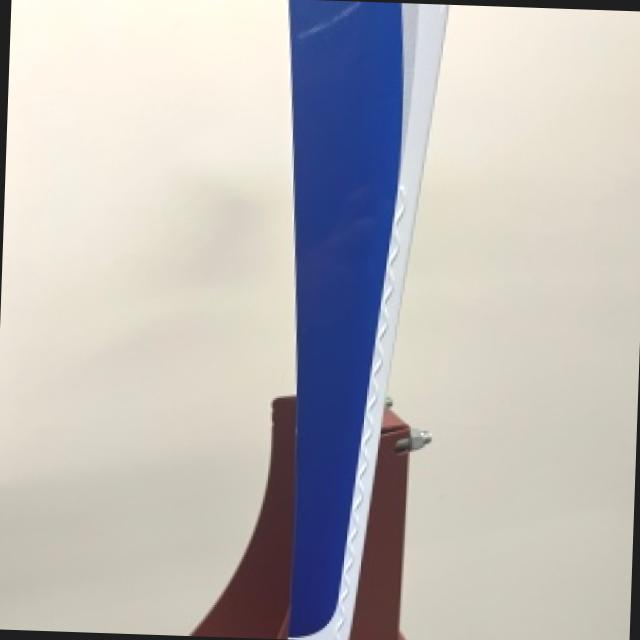healthy: (292, 0, 448, 639)
